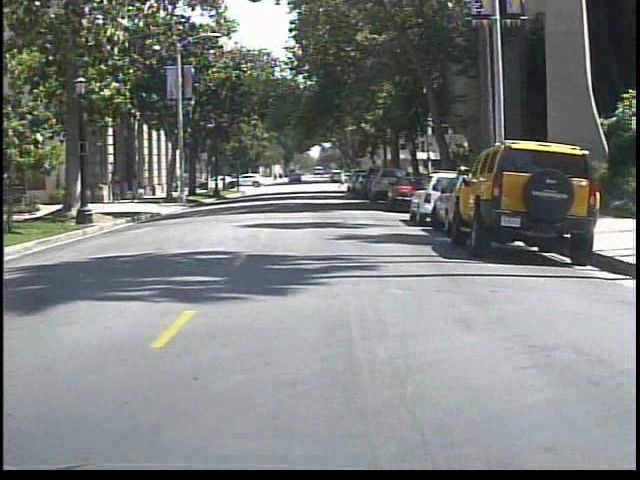person: (108, 172, 128, 207), (126, 174, 147, 207), (338, 168, 351, 192)
